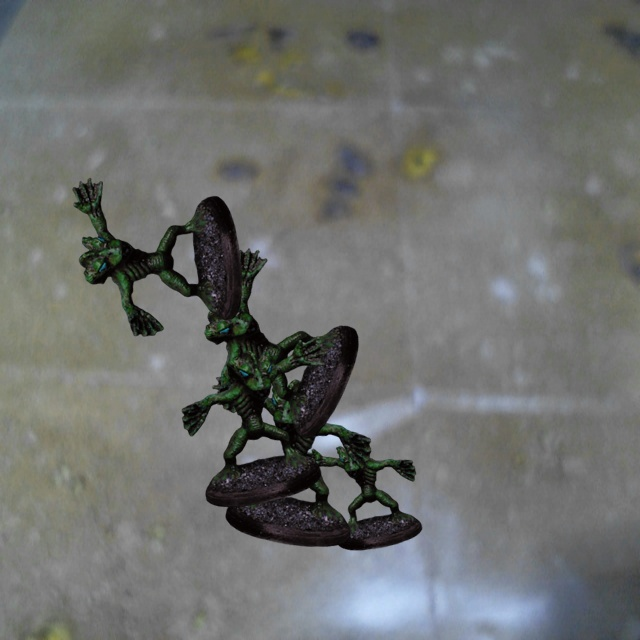pieza_juego: (204, 248, 358, 438), (212, 370, 370, 546), (72, 178, 241, 336), (182, 337, 326, 506), (299, 440, 421, 550)
